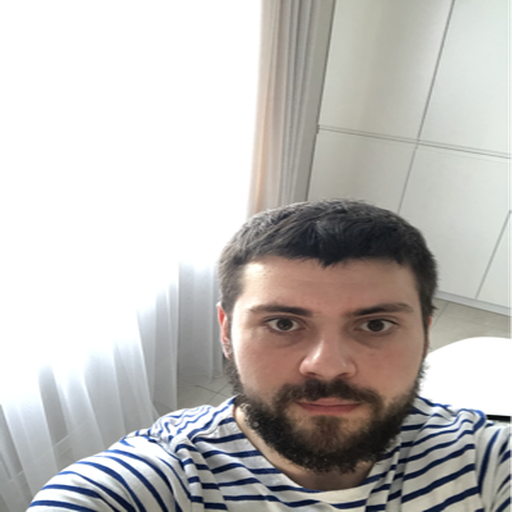person: (246, 289, 412, 449)
